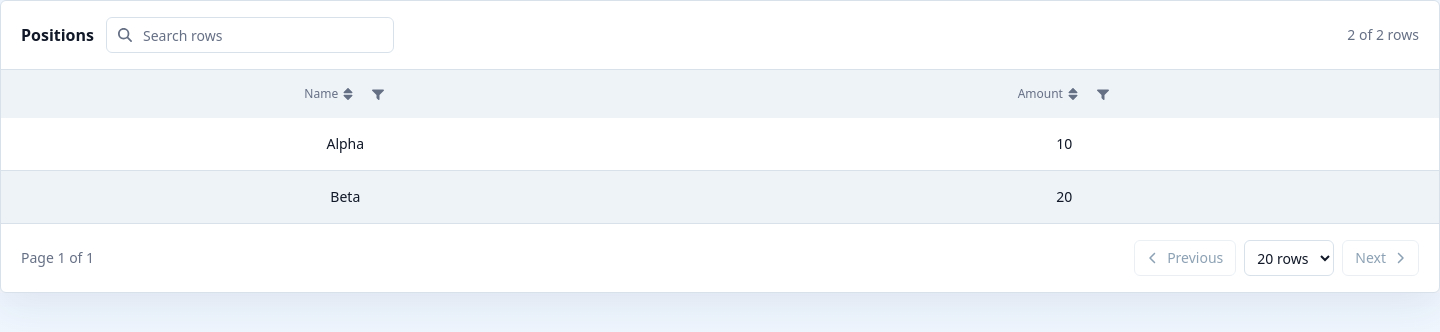
Scenario: DataTable › filters rows with the global search and clears the query
Check: the text "2 of 2 rows" is shown, box left=1347, top=25, right=1419, bottom=45
Type "Beta" into the search field labelled "Search rows" at point(250, 35), box left=106, top=17, right=394, bottom=53
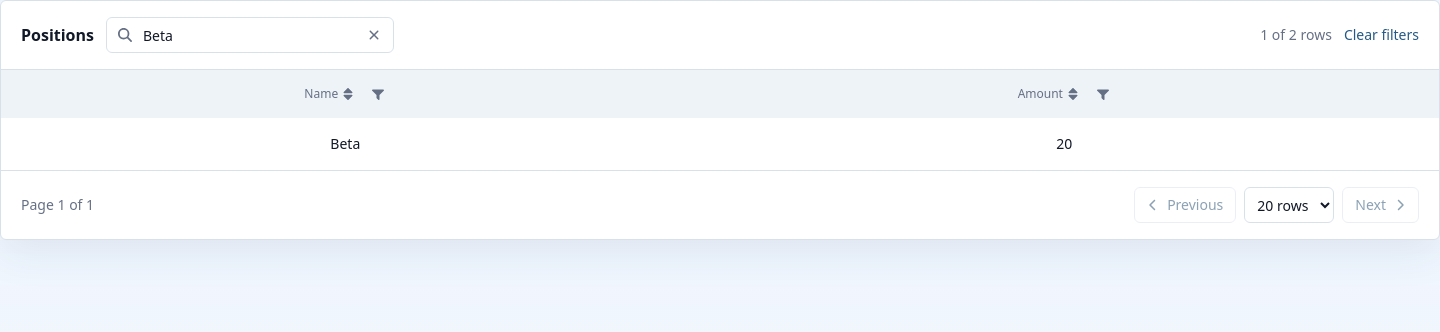
Check: the text "1 of 2 rows" is shown, box left=1260, top=25, right=1332, bottom=45
Check: the text "Alpha" is gone
Click the button named "Clear search" at point(374, 35), box left=362, top=23, right=386, bottom=47
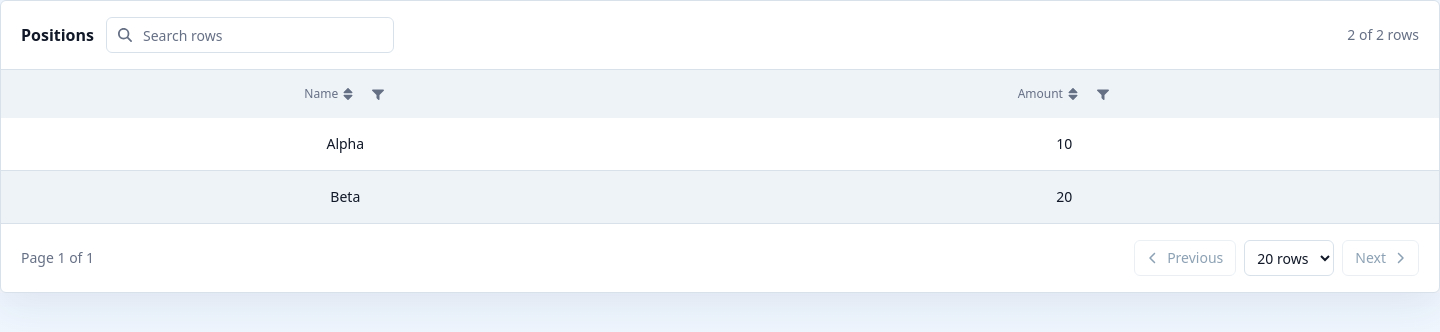
Check: the text "2 of 2 rows" is shown, box left=1347, top=25, right=1419, bottom=45
